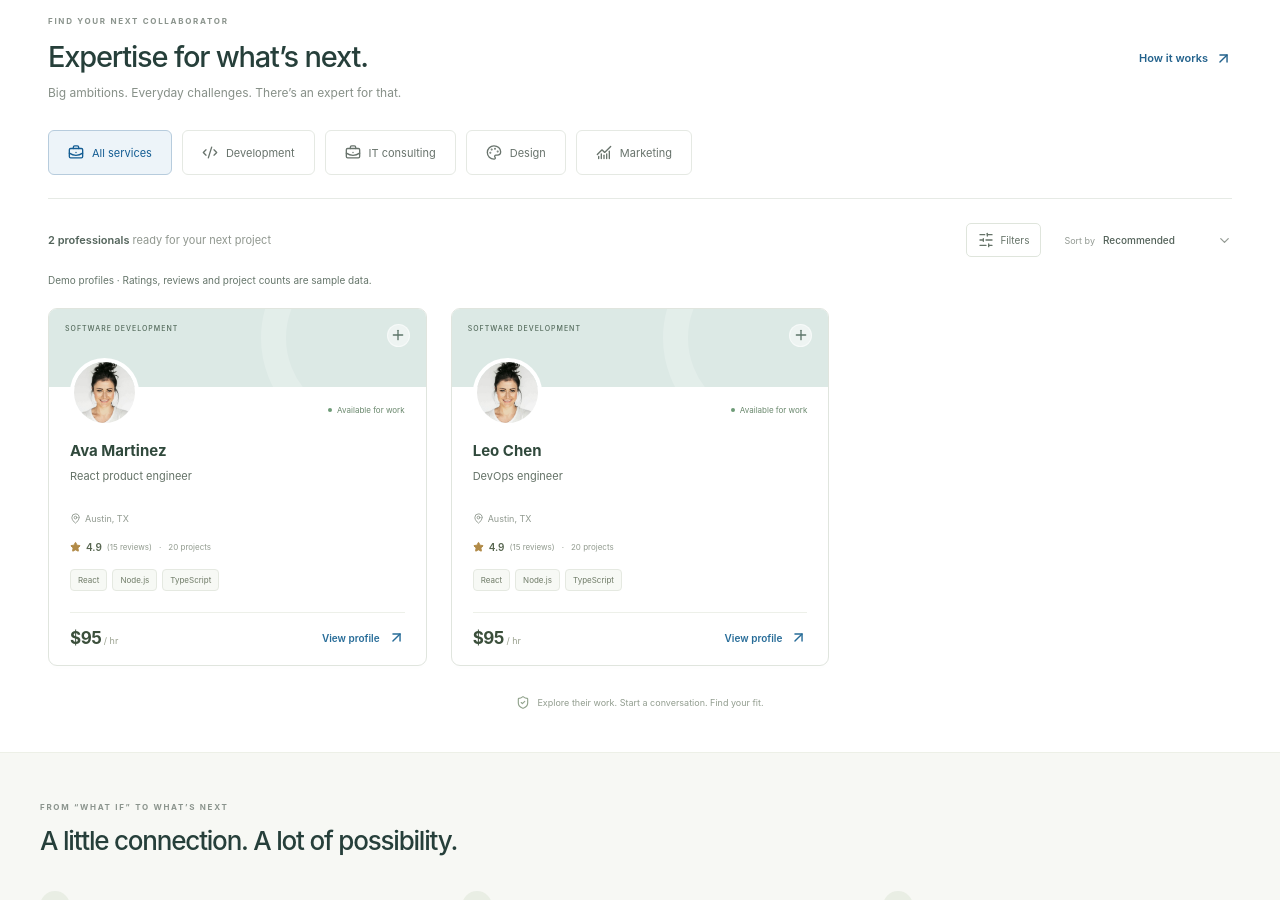
Test: marketplace journeys › continues an anonymous contact through sign-in and submits a private inquiry
(page scrolled)
Click the button "Ava Martinez".
click(118, 450)  # box [70, 440, 166, 460]
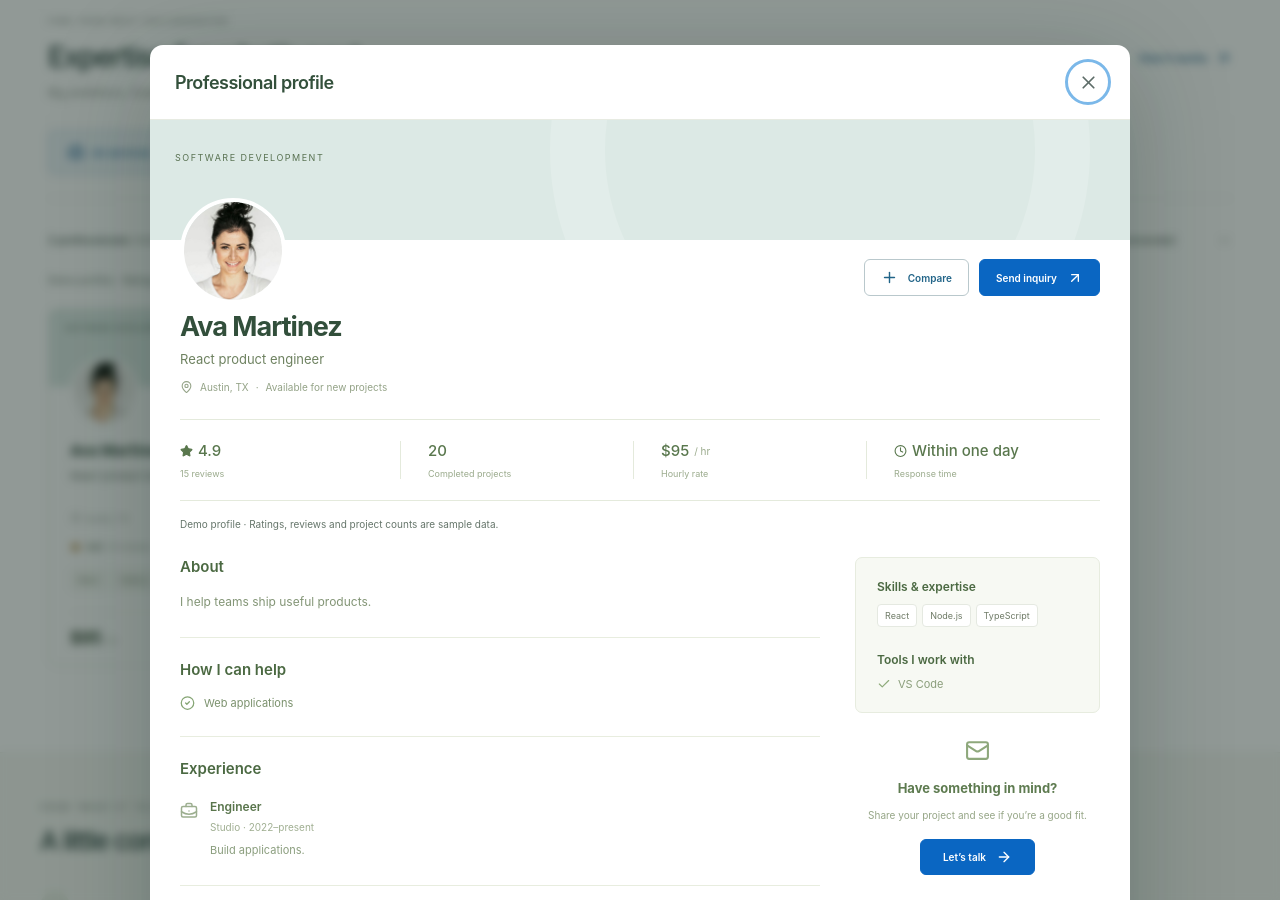
Click the button "Send inquiry".
click(1040, 278)  # box [979, 259, 1100, 296]
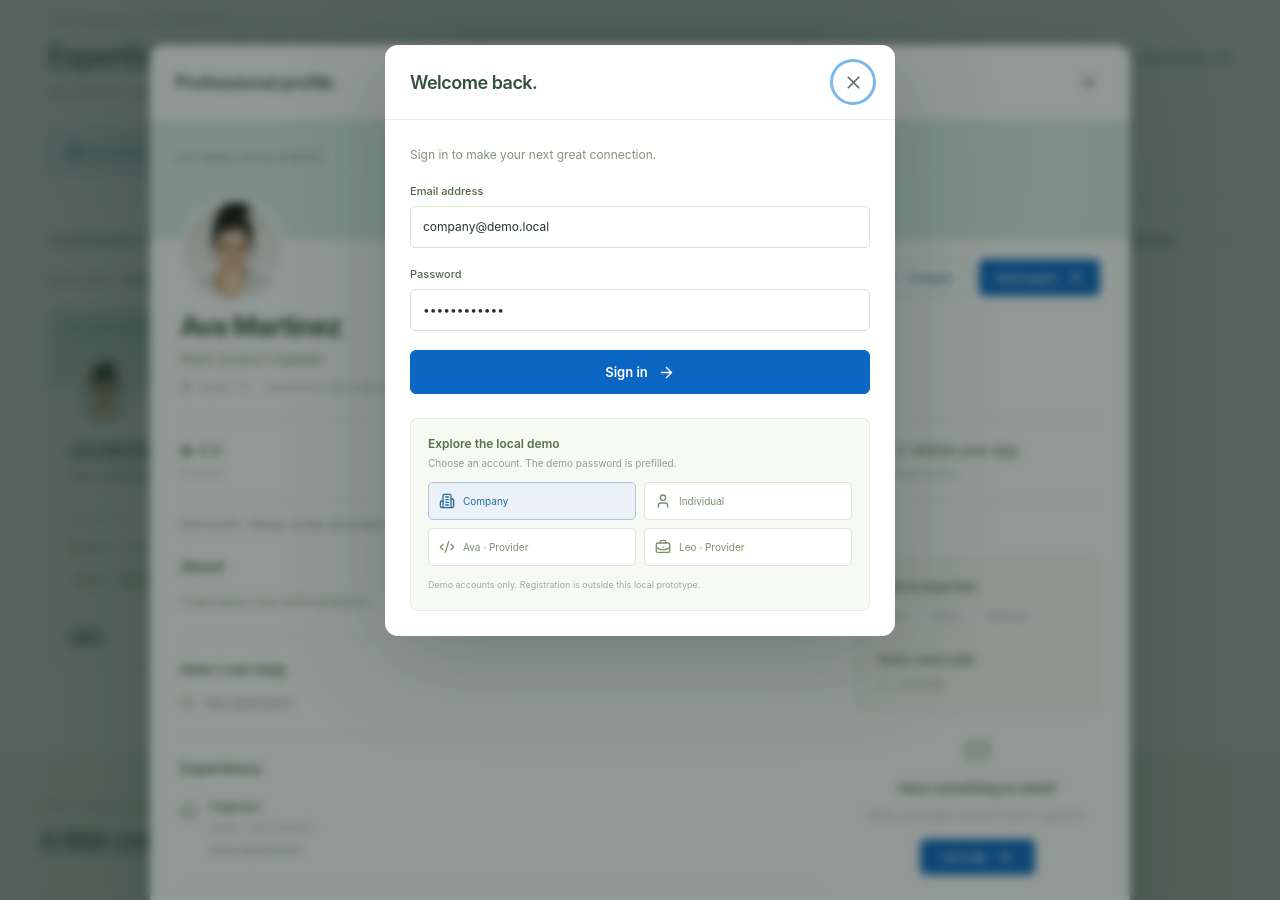
Click the button "Sign in".
click(640, 372)  # box [410, 350, 870, 394]
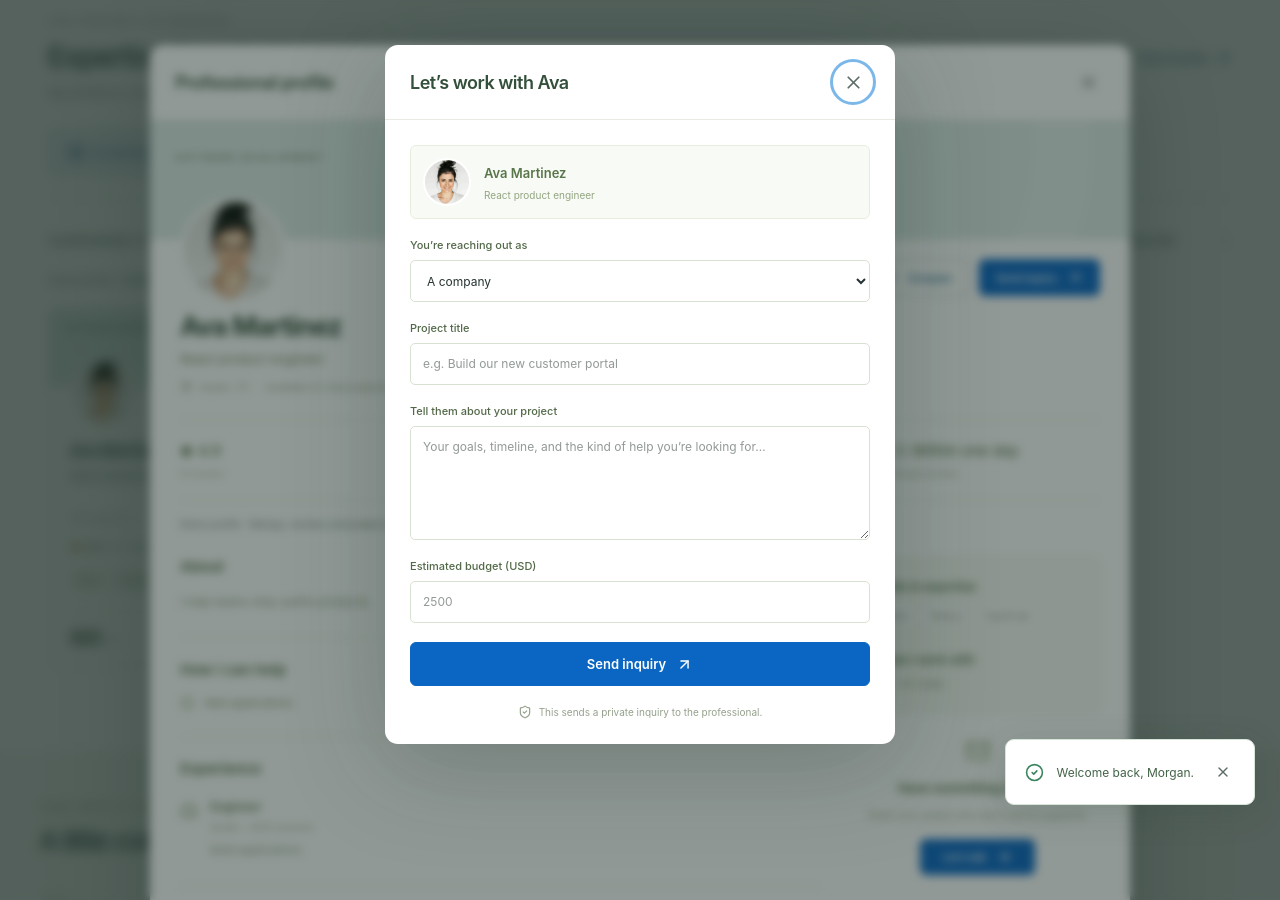
Type "Customer portal" into the field labelled "Project title".
click(640, 364); type("Customer portal")  # box [410, 343, 870, 385]
Type "We need a React portal with secure account access." into the text box labelled "Tell them about your project".
click(640, 483); type("We need a React portal with secure account access.")  # box [410, 426, 870, 540]
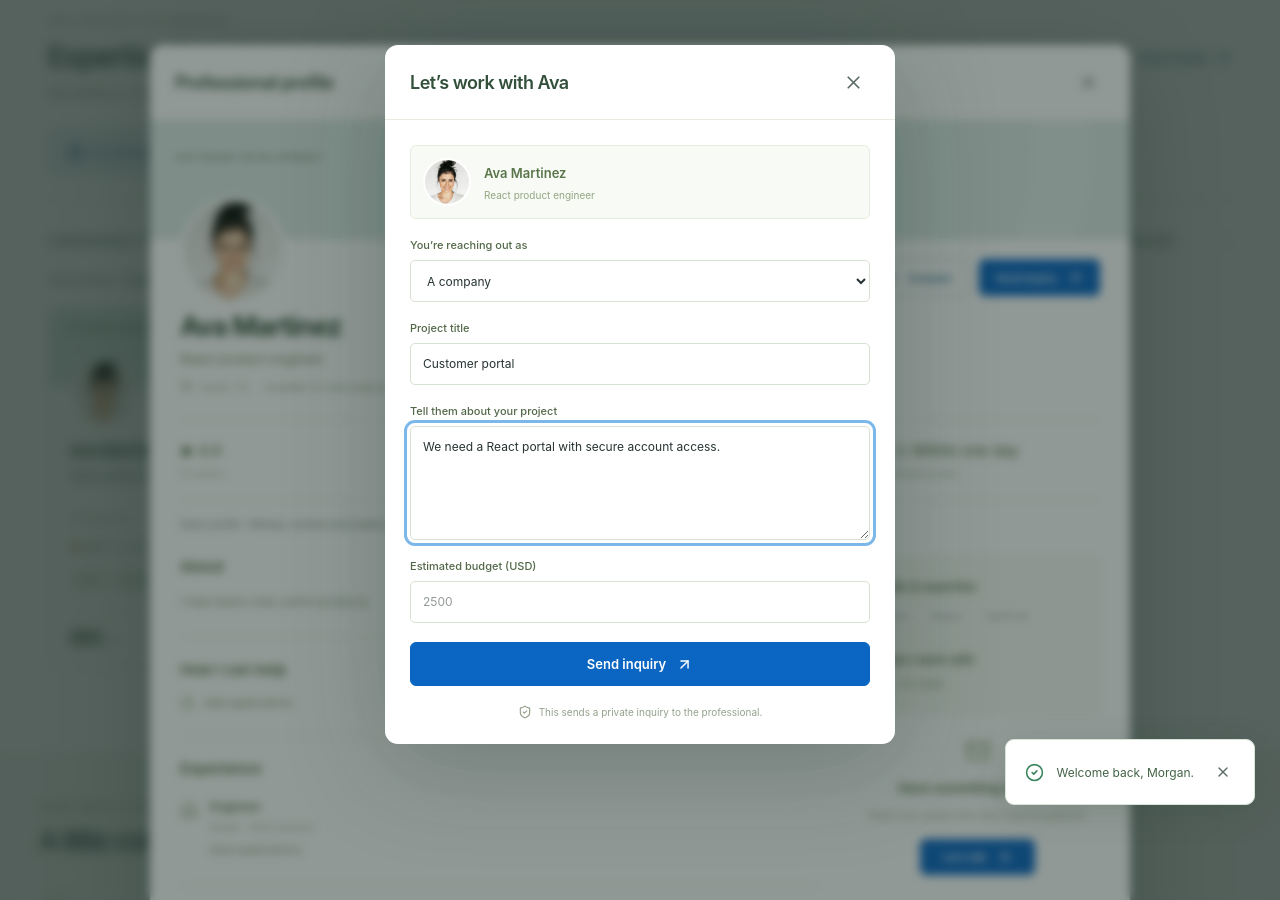
Type "5000" into the number field labelled "Estimated budget (USD)".
click(640, 602); type("5000")  # box [410, 581, 870, 623]
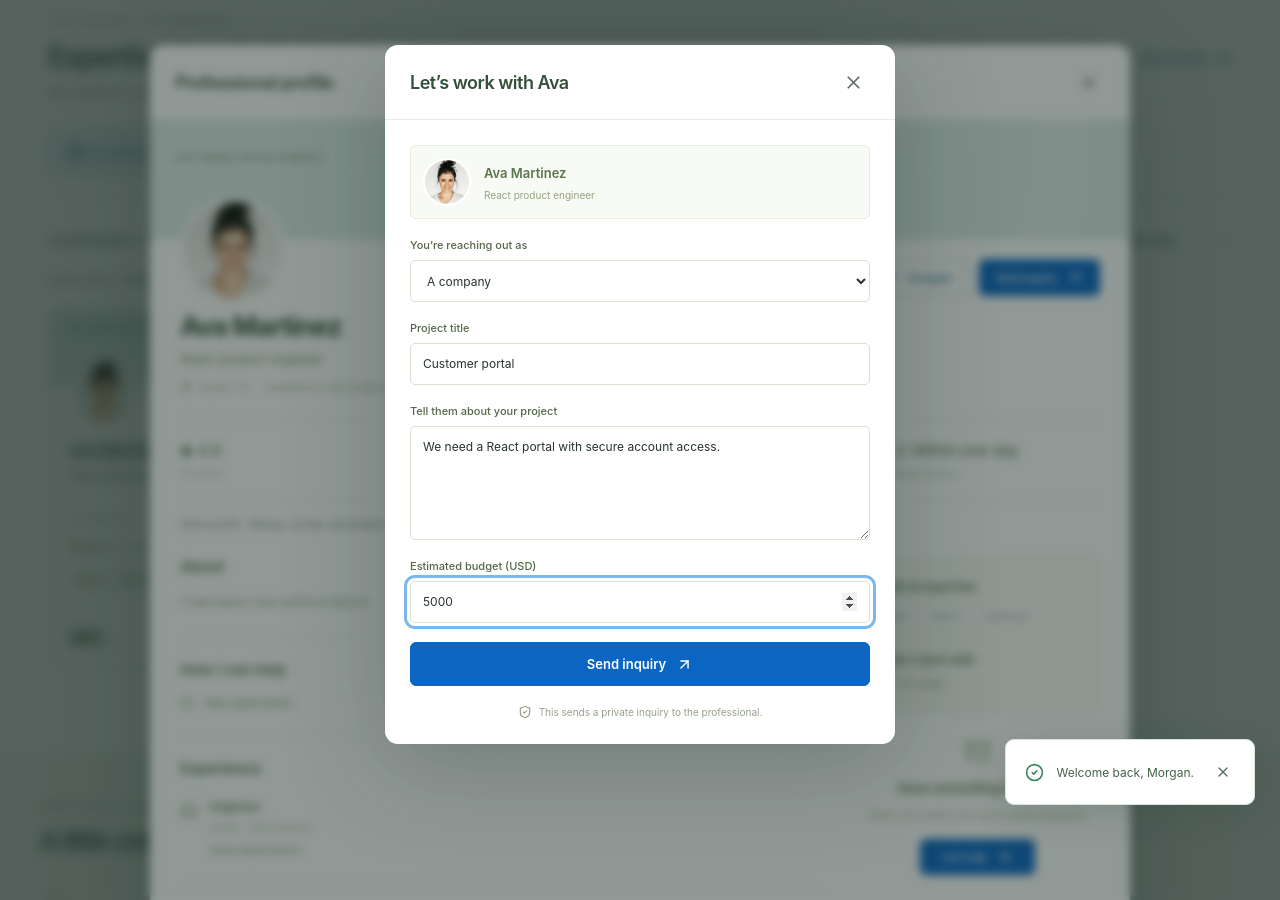
Click the button "Send inquiry".
click(640, 664)  # box [410, 642, 870, 686]
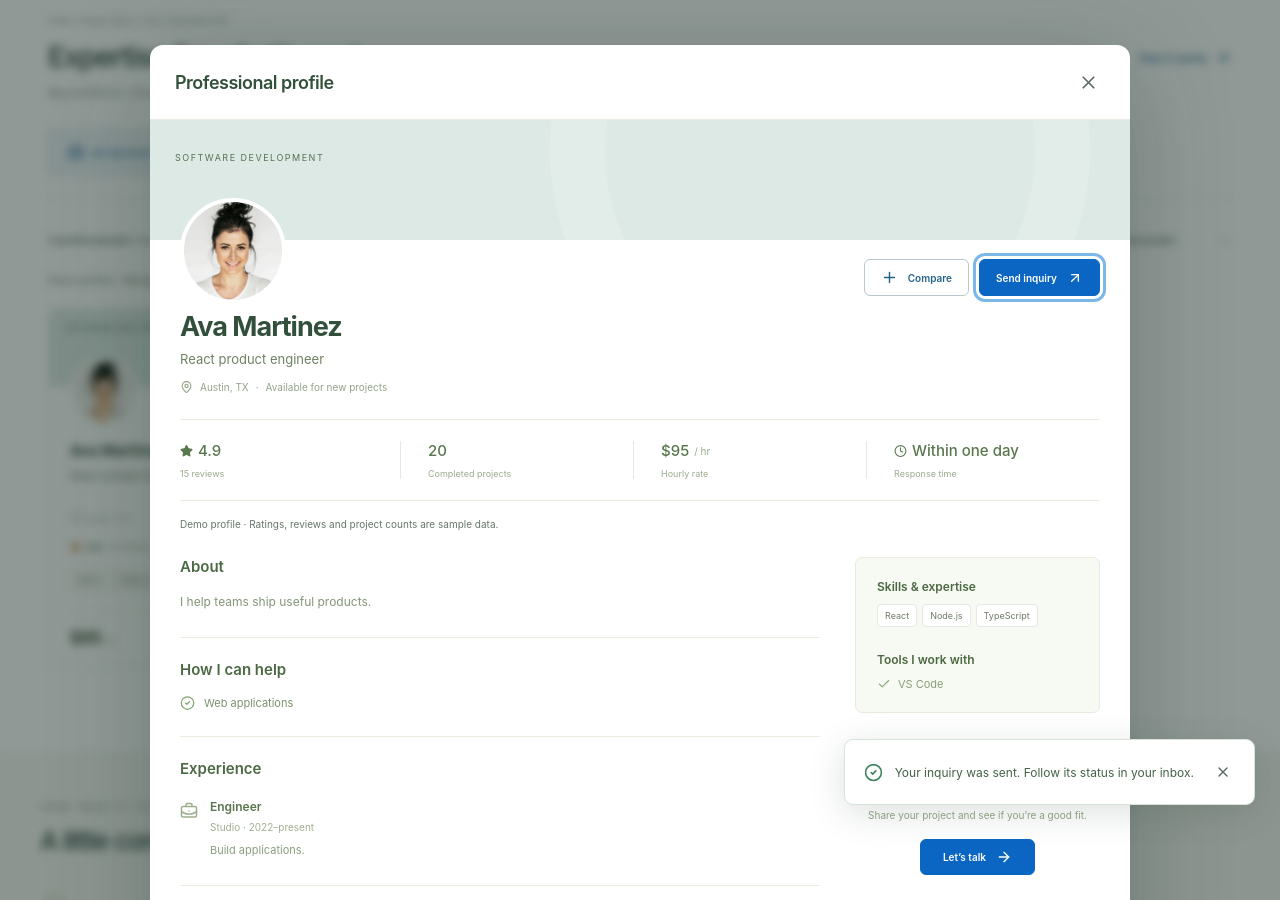
Result: the text "Your inquiry was sent. Follow its status in your inbox." is shown at [844, 739, 1255, 805]
